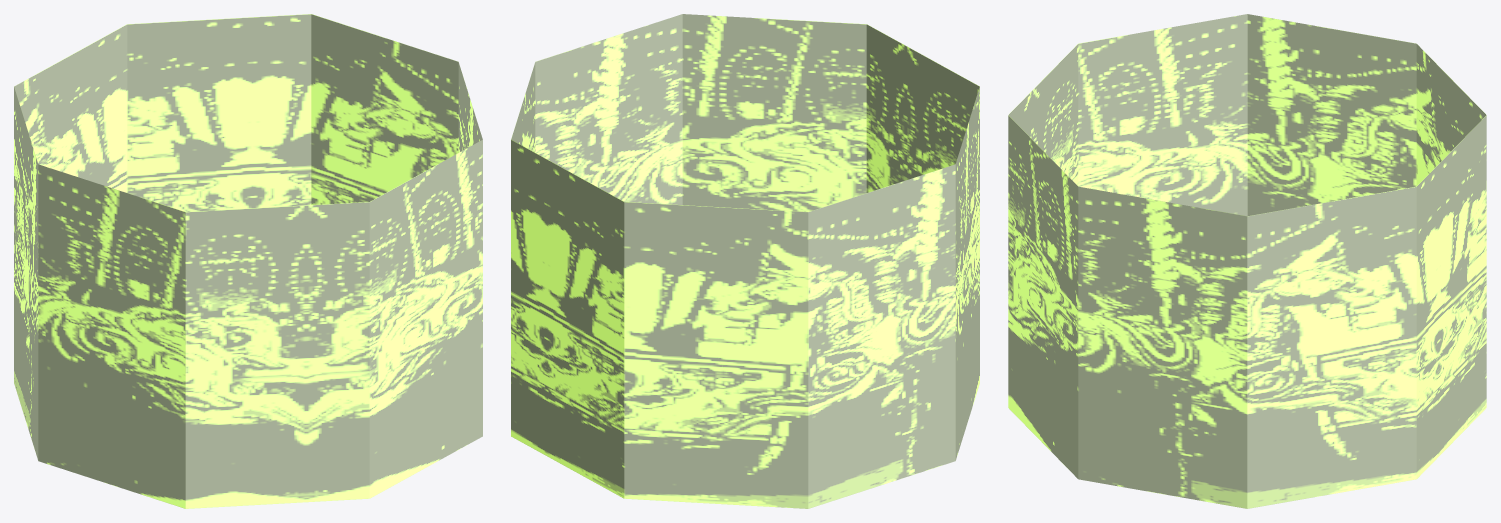
Rendered from jevilCarousel.glb.
3 renders of one model, left to right at view 1: azimuth 30°, elevation 25°; view 2: azimuth 150°, elevation 25°; view 3: azimuth 270°, elevation 25°, orthographic.
Parts seen in each view (by area): view 1: jevilCarousel; view 2: jevilCarousel; view 3: jevilCarousel.
Part boxes in pixels (x1=…): jevilCarousel: x1=14, y1=14, x2=482, y2=508; jevilCarousel: x1=511, y1=14, x2=979, y2=508; jevilCarousel: x1=1008, y1=14, x2=1486, y2=508.
Size of the model in its own units: 2 by 1.35 by 2.
